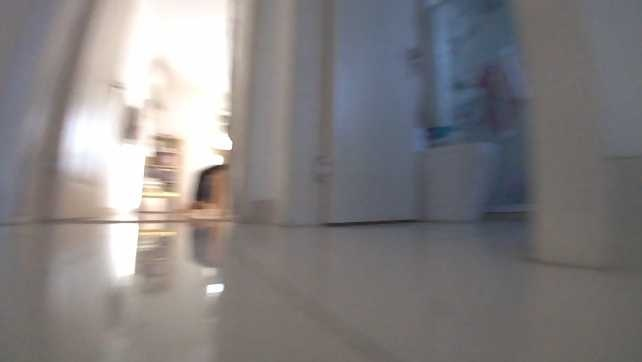door_sill: (35, 214, 236, 227)
toilet: (417, 137, 507, 224)
